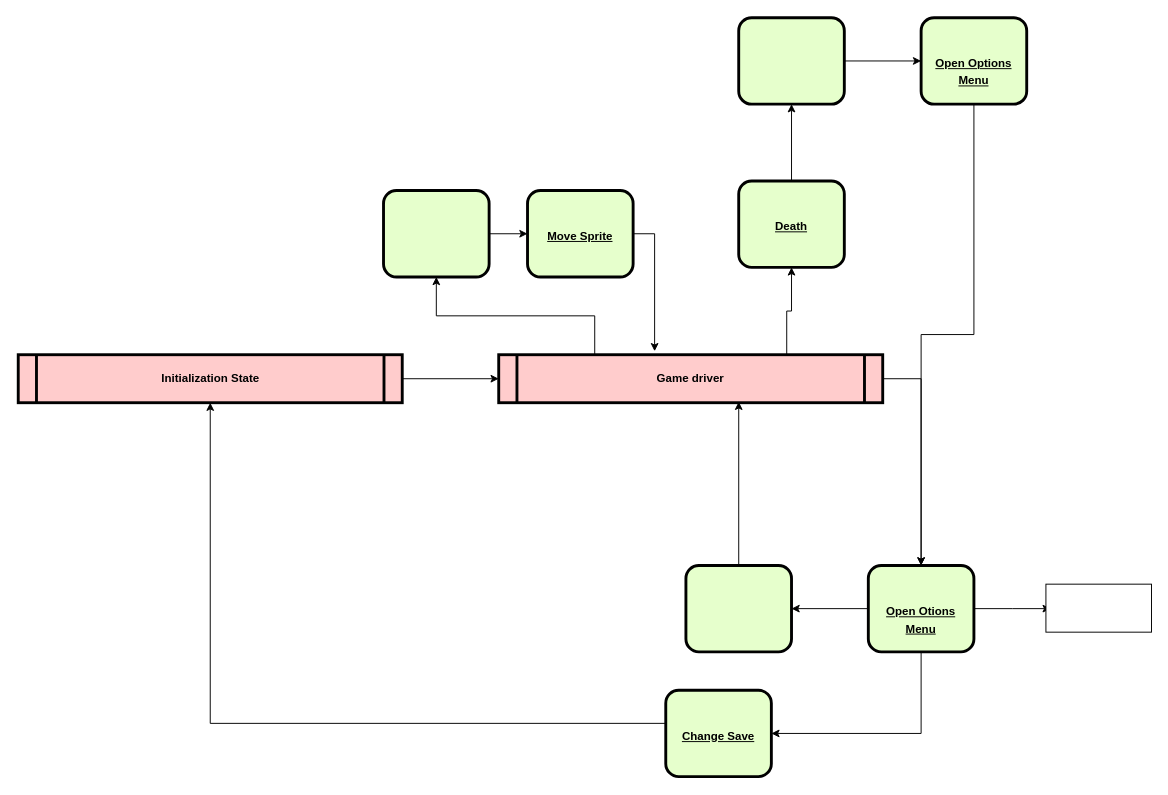
Some shapes in this 1168 by 795 pixel diagram are drawn without their labels. Here are the shapes that lost their labels. From the top down, the box of each, then its label:
(737, 16, 845, 105): Kill Sprite
(382, 189, 490, 278): Input- WASD
(684, 564, 792, 653): Continue Playing
(1045, 583, 1152, 632): Freeze Game
